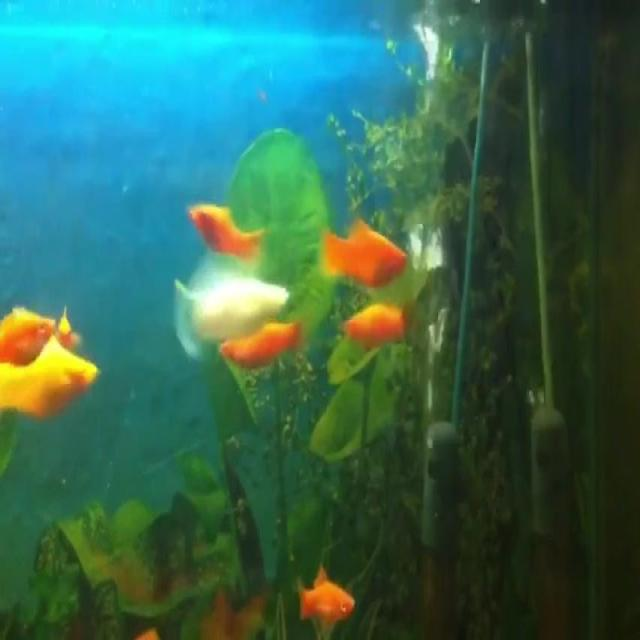PlatyFish: (178, 188, 271, 273), (320, 205, 415, 288), (290, 549, 370, 639)
